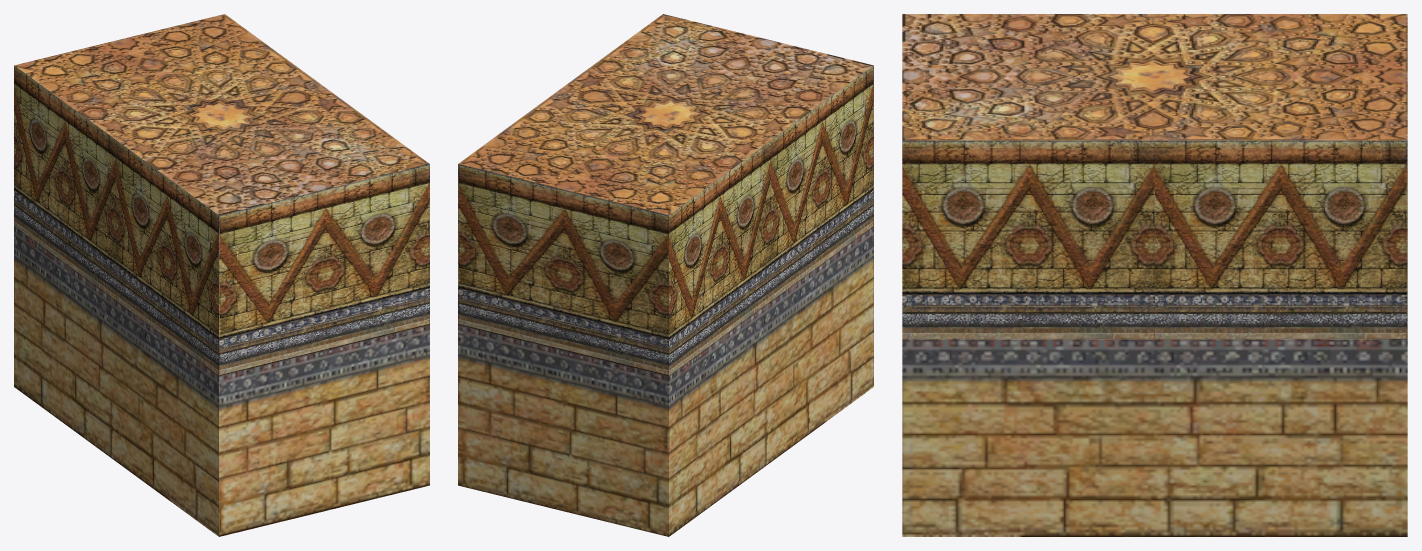
The model's file is pers_plinth.glb.
The picture shows the model from 3 angles, left to right: view 1: azimuth 30°, elevation 25°; view 2: azimuth 150°, elevation 25°; view 3: azimuth 270°, elevation 25°; orthographic projection. The views are drawn at different scales.
Bounding box in the file's own units: 7.23 × 10.54 × 12.18.
1 material, 1 textured.
